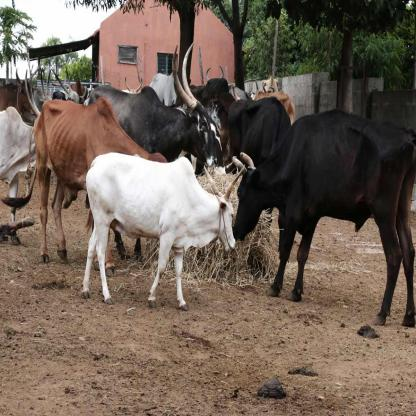cow: (233, 112, 416, 327), (81, 153, 236, 308), (34, 100, 168, 264), (88, 87, 217, 169)
